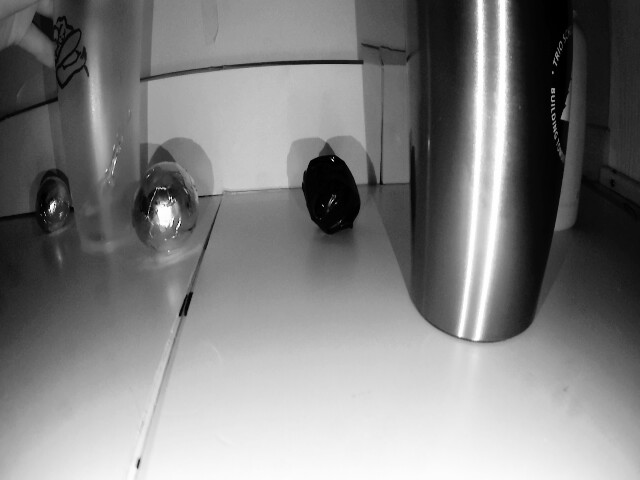black: (291, 145, 368, 231)
silver: (132, 162, 205, 254), (34, 172, 70, 230)
